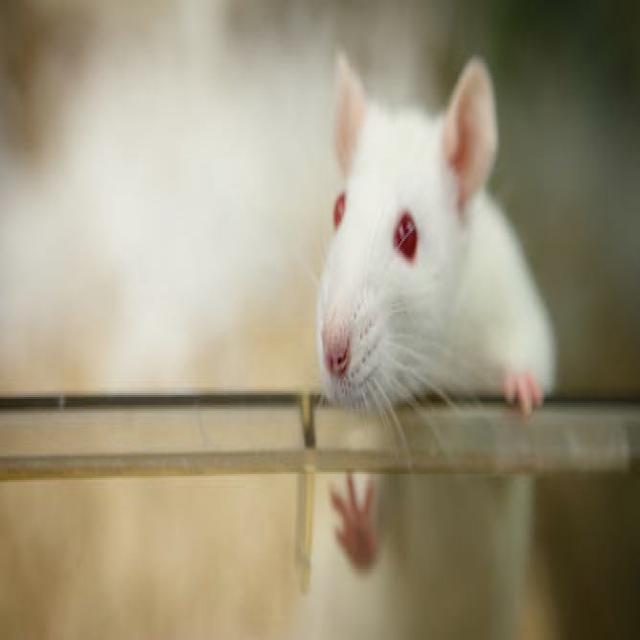rat: (315, 53, 555, 413)
